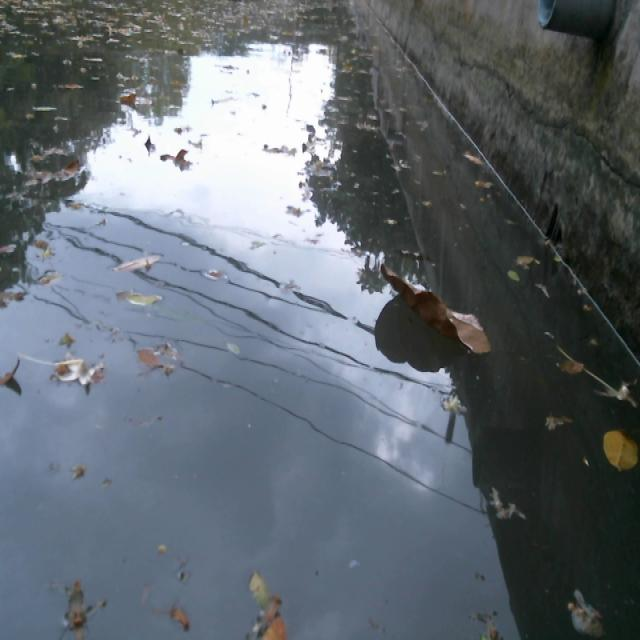Big-leaf: (374, 259, 496, 362)
Small-leaf: (597, 418, 640, 481), (49, 351, 107, 391), (563, 597, 614, 640), (62, 574, 88, 640), (110, 246, 166, 275), (112, 279, 165, 309), (244, 565, 272, 616), (1, 351, 25, 395), (476, 613, 510, 640), (258, 610, 287, 640), (131, 344, 165, 369), (163, 603, 192, 631), (161, 144, 194, 168), (555, 353, 586, 378), (56, 157, 88, 181), (37, 267, 69, 290), (532, 273, 554, 306), (515, 244, 539, 270), (115, 87, 142, 109), (460, 145, 485, 166), (505, 263, 525, 286), (475, 175, 495, 195), (224, 341, 245, 358), (143, 131, 157, 153)
